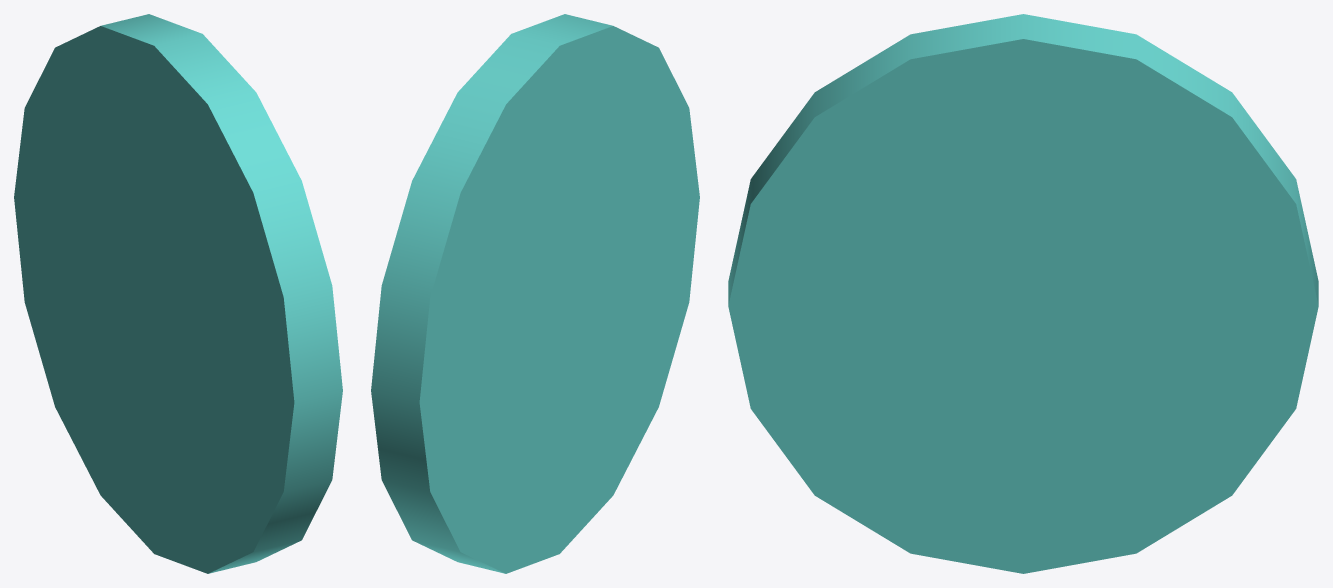
File: Wheel right.gltf
The picture shows the model from 3 angles, left to right: view 1: azimuth 30°, elevation 25°; view 2: azimuth 150°, elevation 25°; view 3: azimuth 270°, elevation 25°; orthographic projection. The views are drawn at different scales.
Visible parts, largest first — view 1: mesh2, mesh1; view 2: mesh2, mesh1; view 3: mesh0, mesh1.
Boxes of the visible parts, x1=… form: mesh2: x1=14, y1=26, x2=294, y2=573; mesh1: x1=101, y1=14, x2=342, y2=573; mesh2: x1=419, y1=26, x2=699, y2=573; mesh1: x1=371, y1=14, x2=612, y2=573; mesh0: x1=728, y1=39, x2=1318, y2=573; mesh1: x1=728, y1=14, x2=1318, y2=305.
Bounding box in the file's own units: 0.01 × 0.1 × 0.1.
